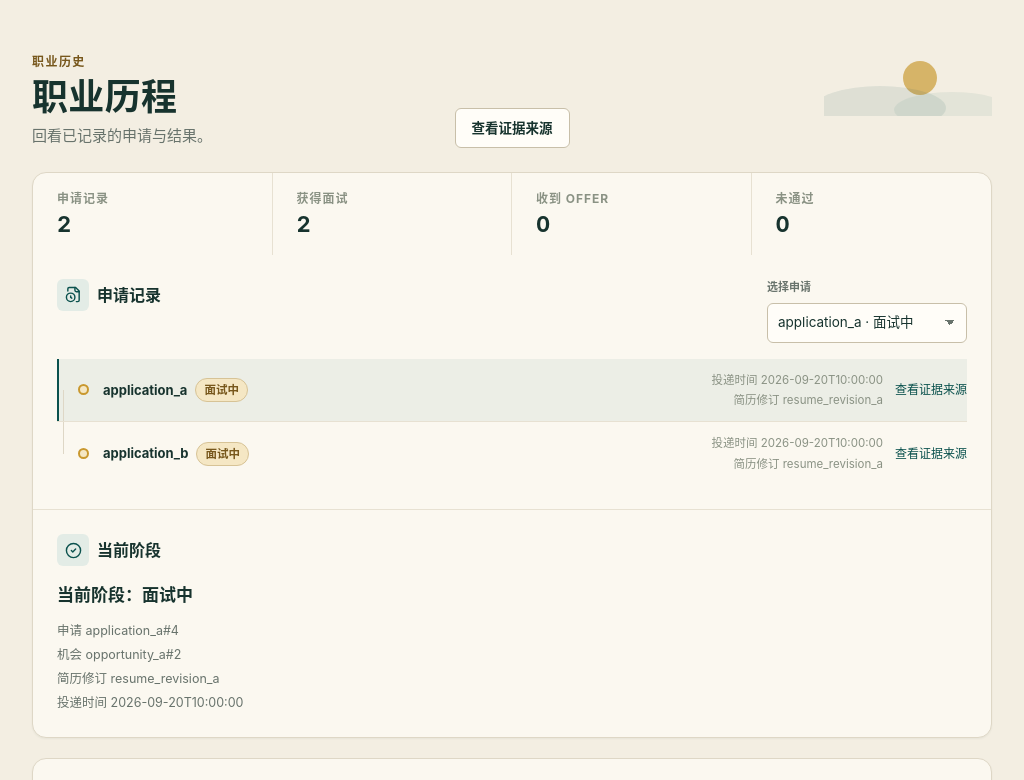
ignores a stale result when another application is selected
Select "application_b · 面试中" in the dropdown labelled "选择申请". click: (867, 323)
box: [767,303,967,343]
(page scrolled)
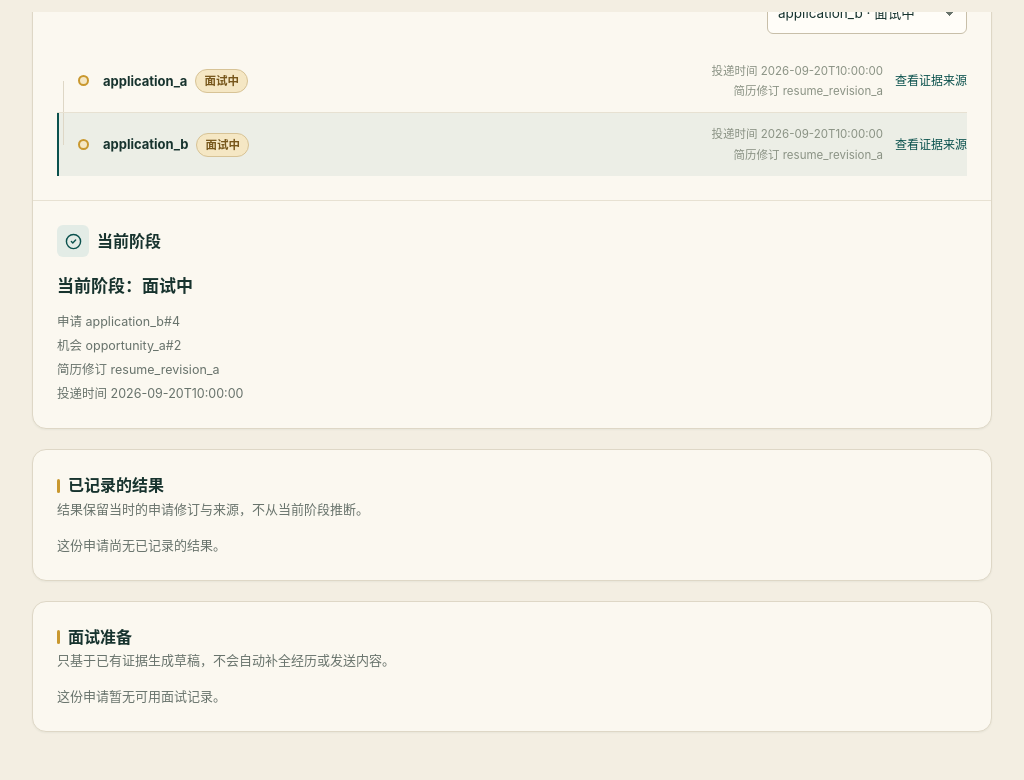
Expected: the text "这份申请尚无已记录的结果。" is shown, [57,537,226,553]
